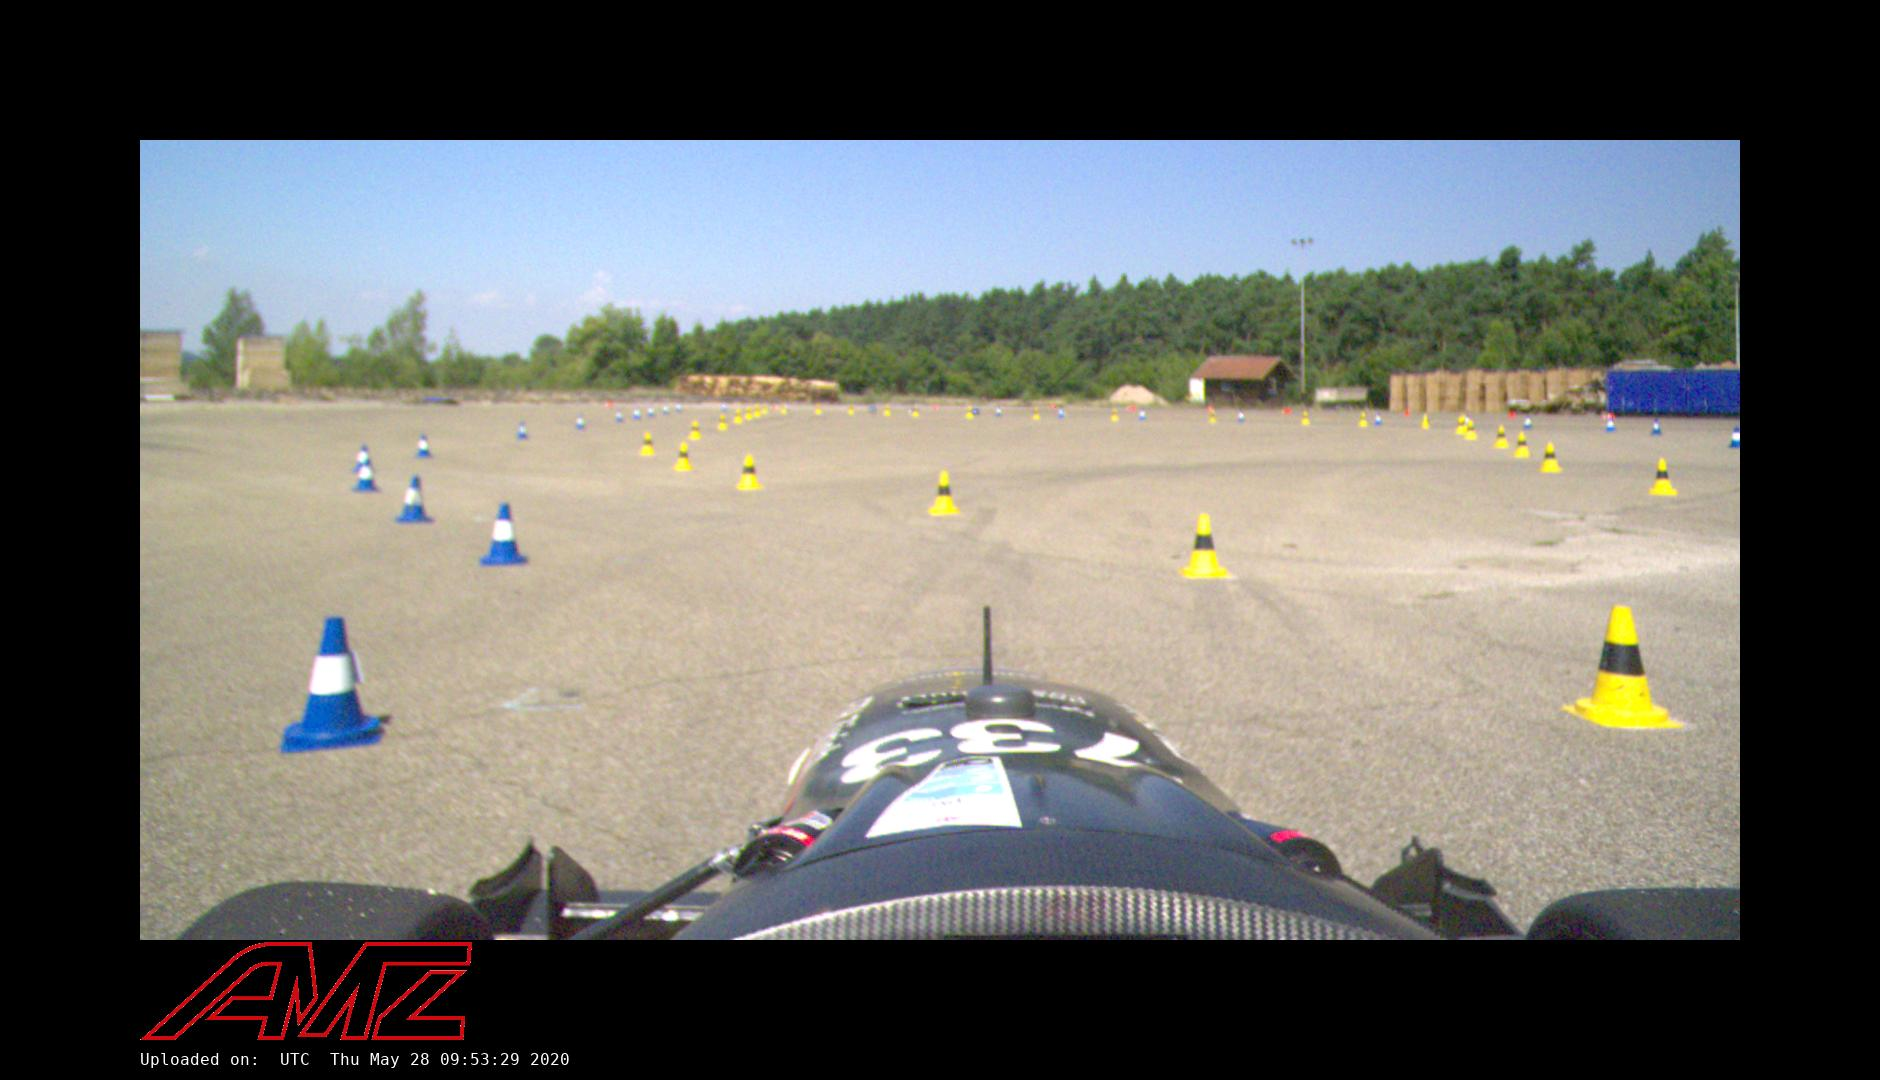blue_cone: (276, 615, 382, 749), (480, 503, 526, 567), (396, 474, 434, 524), (354, 456, 378, 492), (352, 444, 371, 472), (416, 433, 433, 459), (1729, 425, 1739, 448), (575, 412, 586, 431), (516, 421, 528, 439), (1651, 417, 1660, 435), (1606, 417, 1615, 431), (615, 410, 624, 422), (633, 407, 640, 419), (1375, 412, 1382, 425)
yellow_cone: (1566, 603, 1681, 730), (1178, 512, 1231, 583), (928, 472, 961, 517), (1650, 456, 1679, 496), (735, 453, 762, 491), (673, 441, 693, 473), (1540, 441, 1561, 472), (1513, 431, 1531, 457), (639, 431, 655, 456), (1493, 424, 1508, 448), (1463, 419, 1477, 441), (688, 419, 701, 439), (715, 412, 728, 430), (1300, 411, 1311, 425), (733, 408, 742, 422), (1422, 413, 1429, 429), (1360, 412, 1367, 428)
